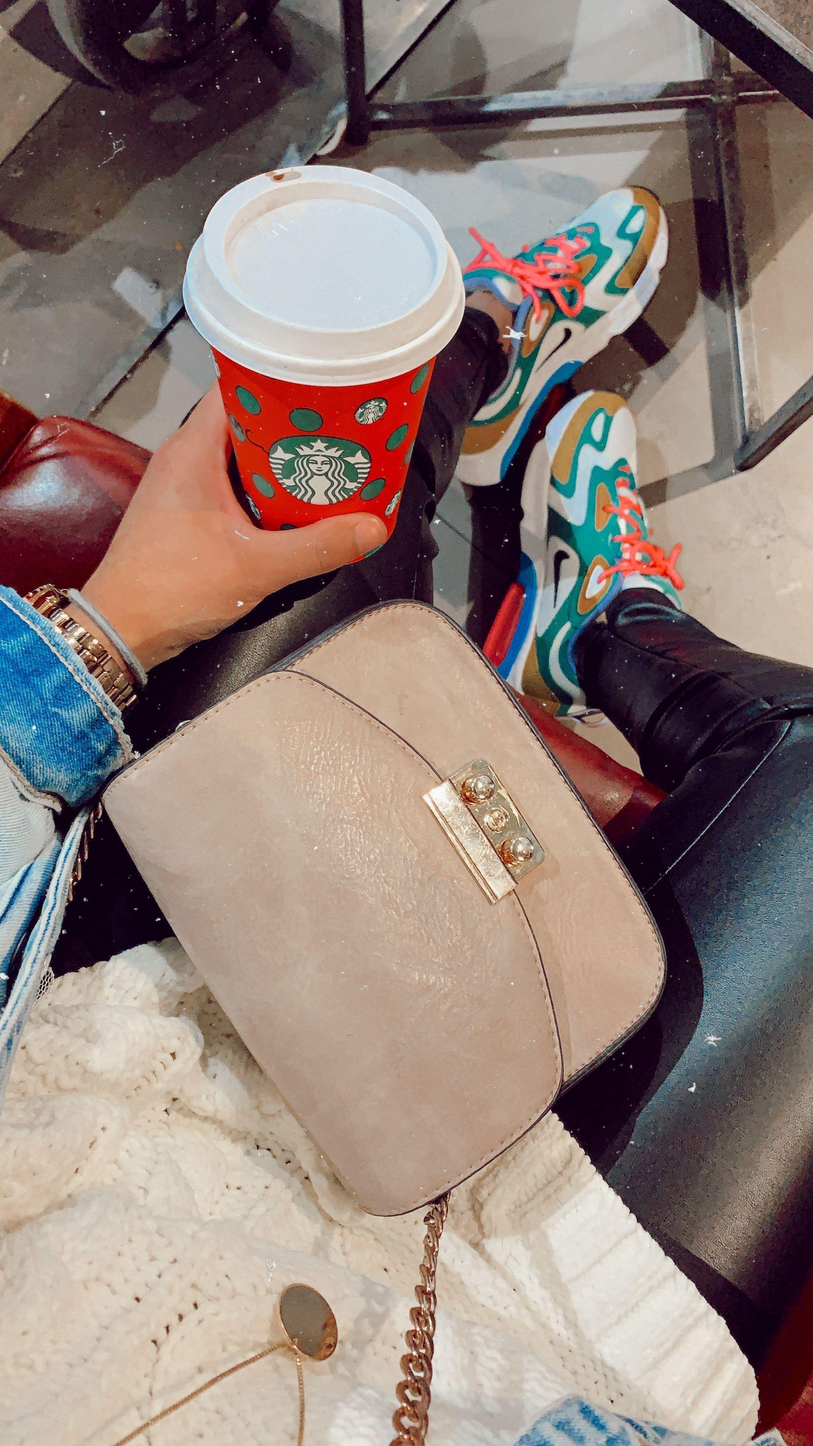cup-disposable: (188, 162, 464, 571)
